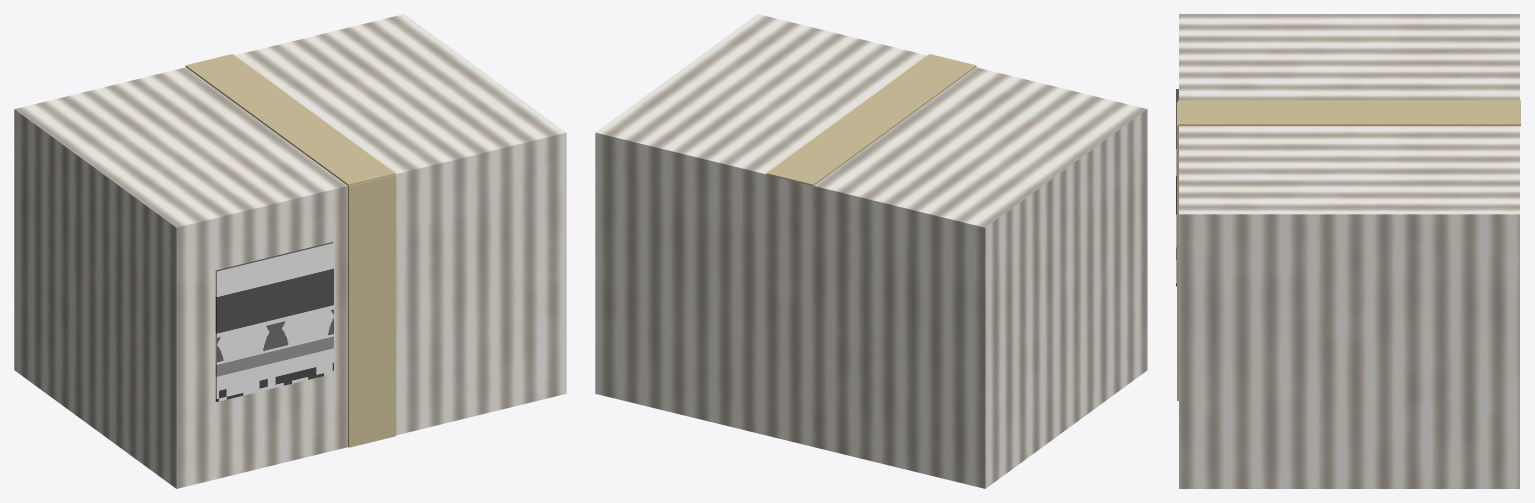
Rendered from scatola_1.obj.
3 views of the same model, side by side, from view 1: azimuth 30°, elevation 25°; view 2: azimuth 150°, elevation 25°; view 3: azimuth 270°, elevation 25° (orthographic). The views are drawn at different scales.
Parts seen in each view (by area): view 1: cartone_000, liscio_001, stampa_a_002; view 2: cartone_000, liscio_001; view 3: cartone_000, liscio_001.
Boxes of the visible parts, x1,y1,x2,y2 form: cartone_000: [14, 14, 566, 488]; liscio_001: [185, 54, 395, 447]; stampa_a_002: [215, 242, 333, 401]; cartone_000: [595, 14, 1147, 488]; liscio_001: [766, 54, 976, 186]; cartone_000: [1179, 14, 1519, 488]; liscio_001: [1177, 100, 1520, 400].
Bounding box in the file's own units: 0.5 × 0.322 × 0.364.
3 materials, 2 textured.
